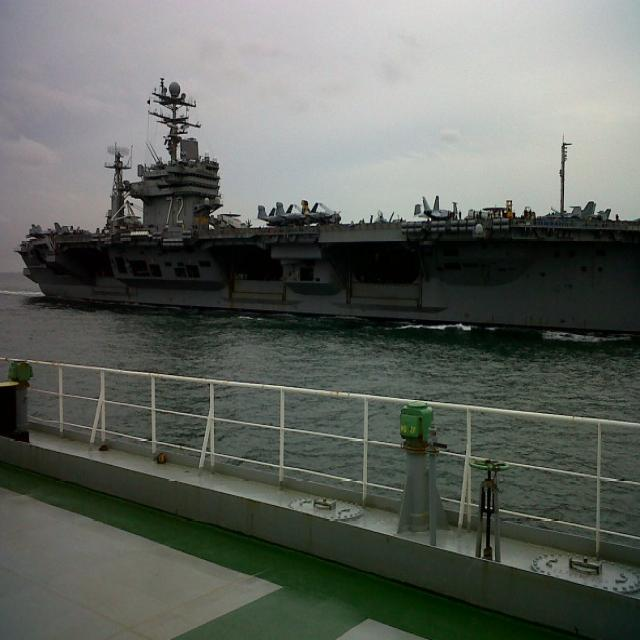Portanaves: (11, 83, 640, 335)
